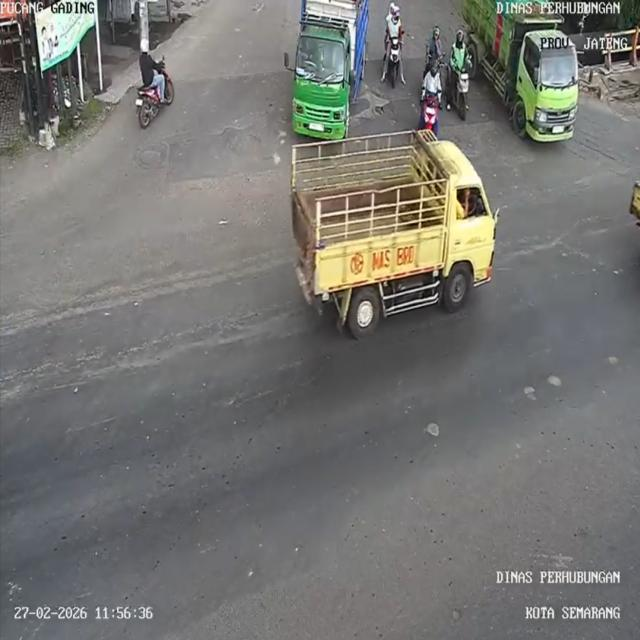motorcycle: (135, 56, 174, 126), (383, 34, 406, 88), (455, 69, 472, 120), (418, 92, 438, 132)
person: (136, 38, 168, 96), (451, 29, 473, 74), (425, 62, 445, 106), (389, 10, 406, 45), (429, 26, 445, 57), (386, 4, 399, 22)
rider_region: (135, 36, 175, 130), (448, 26, 478, 121), (383, 1, 410, 92), (420, 61, 443, 137)
